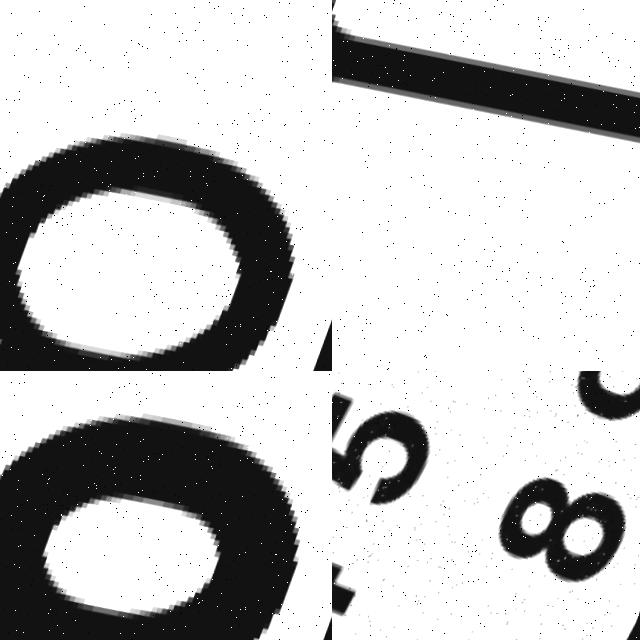4: (332, 519, 389, 640)
5: (332, 375, 464, 532)
6: (0, 36, 332, 371), (0, 371, 332, 640)
8: (482, 456, 640, 612)
9: (560, 371, 640, 466)
J: (332, 0, 640, 366)
